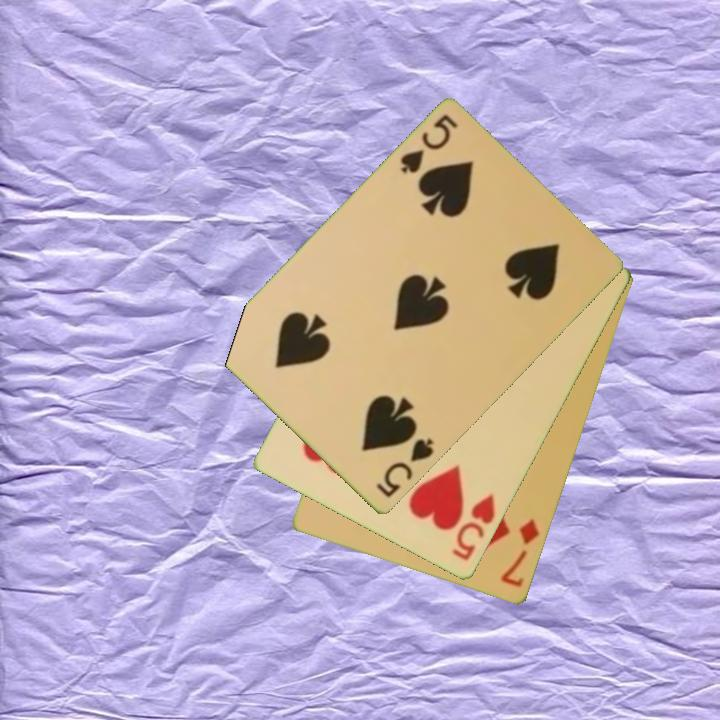5h: (448, 491, 498, 565)
5s: (372, 435, 437, 502), (397, 111, 461, 178)
7d: (497, 515, 543, 591)
